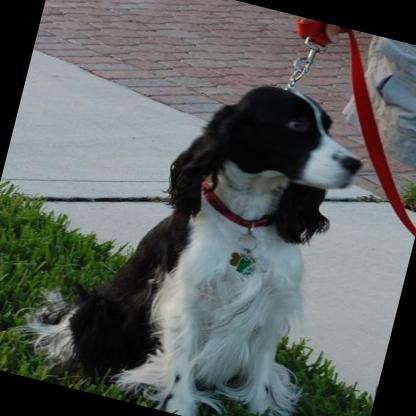English_springer: (11, 38, 371, 416)
